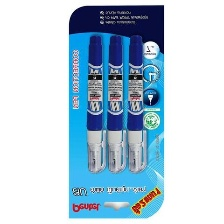book: (65, 3, 167, 221)
correction_fluid: (104, 32, 128, 175), (84, 33, 108, 175), (125, 32, 147, 175)
